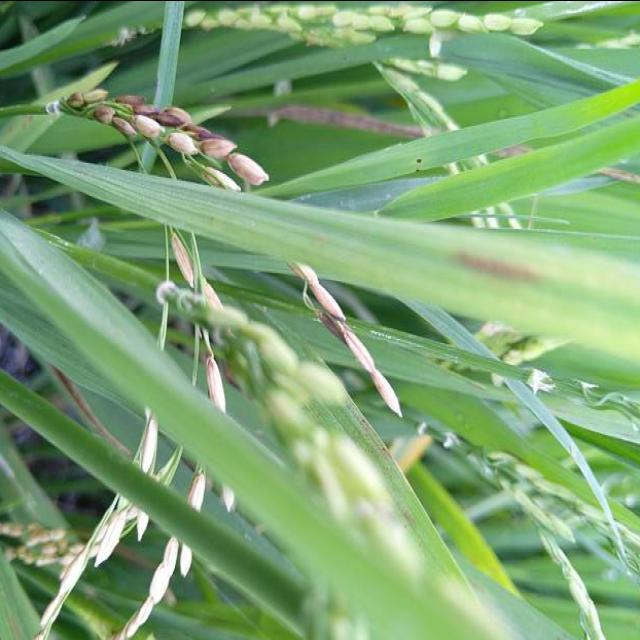Leaf Streak: (453, 251, 555, 283)
Panicle Blight: (65, 88, 268, 185), (288, 262, 400, 416), (164, 225, 221, 308), (208, 343, 227, 412), (202, 166, 240, 190)
